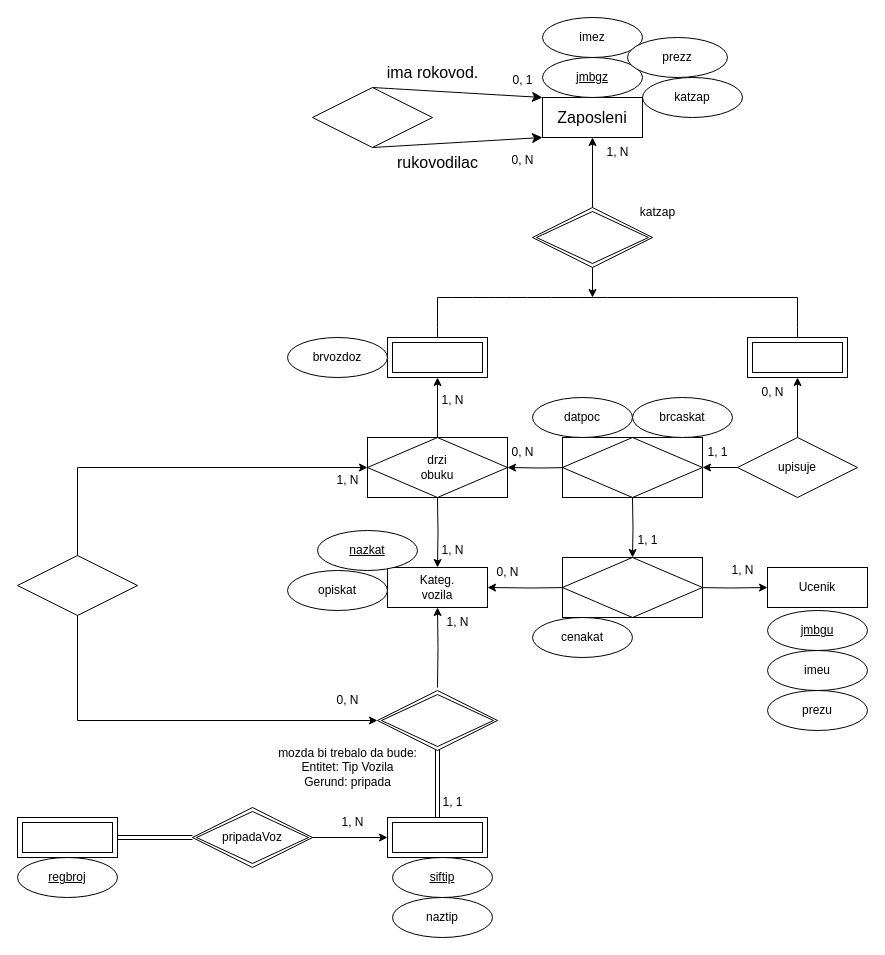
The diagram is 885 pixels wide and 955 high, and some of its shapes have lost their labels. The shapes that lost their labels are listed below. From the top down, each one's centre as x and y in pixels, then its label:
At point (372, 117): "rukovodi".
At point (592, 237): "IS-A".
At point (437, 357): "Instruktor voz.".
At point (797, 357): "Administ.".
At point (632, 467): "obucava se".
At point (77, 585): "koristi".
At point (632, 587): "uzima casove".
At point (437, 720): "pripada".
At point (67, 837): "Mot. vozilo".
At point (437, 837): "Tip vozila".
